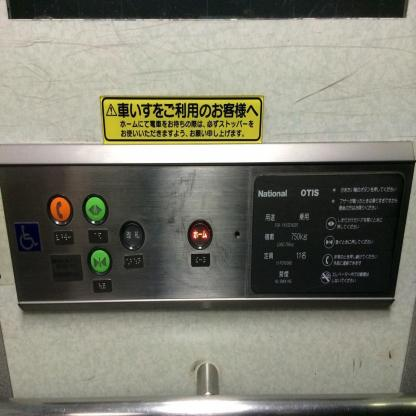CH: (13, 219, 42, 252)
call: (45, 194, 74, 226)
close: (86, 245, 113, 277)
open: (81, 193, 109, 226)
text: (186, 217, 214, 250), (118, 220, 146, 252)
